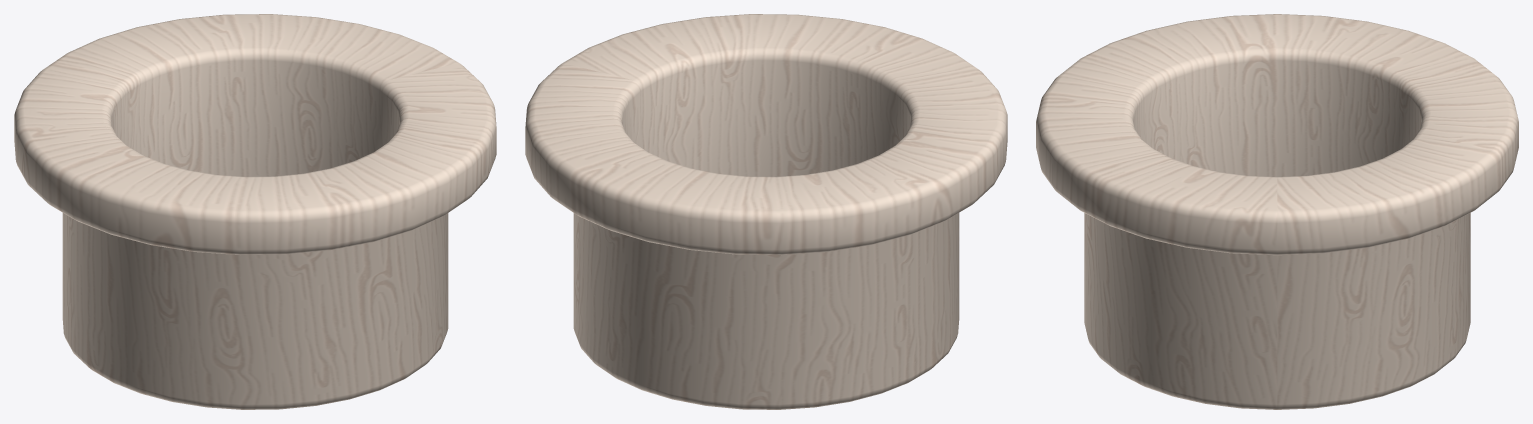
File: Pipe_Halftile.fbx
3 renders of one model, left to right at view 1: azimuth 30°, elevation 25°; view 2: azimuth 150°, elevation 25°; view 3: azimuth 270°, elevation 25°, orthographic.
Visible parts, largest first — view 1: Cylinder.002; view 2: Cylinder.002; view 3: Cylinder.002.
Boxes of the visible parts, x1,y1,x2,y2 form: Cylinder.002: (14,14,496,409); Cylinder.002: (525,14,1007,409); Cylinder.002: (1036,14,1518,409).
Size of the model in its own units: 200 by 100 by 200.
